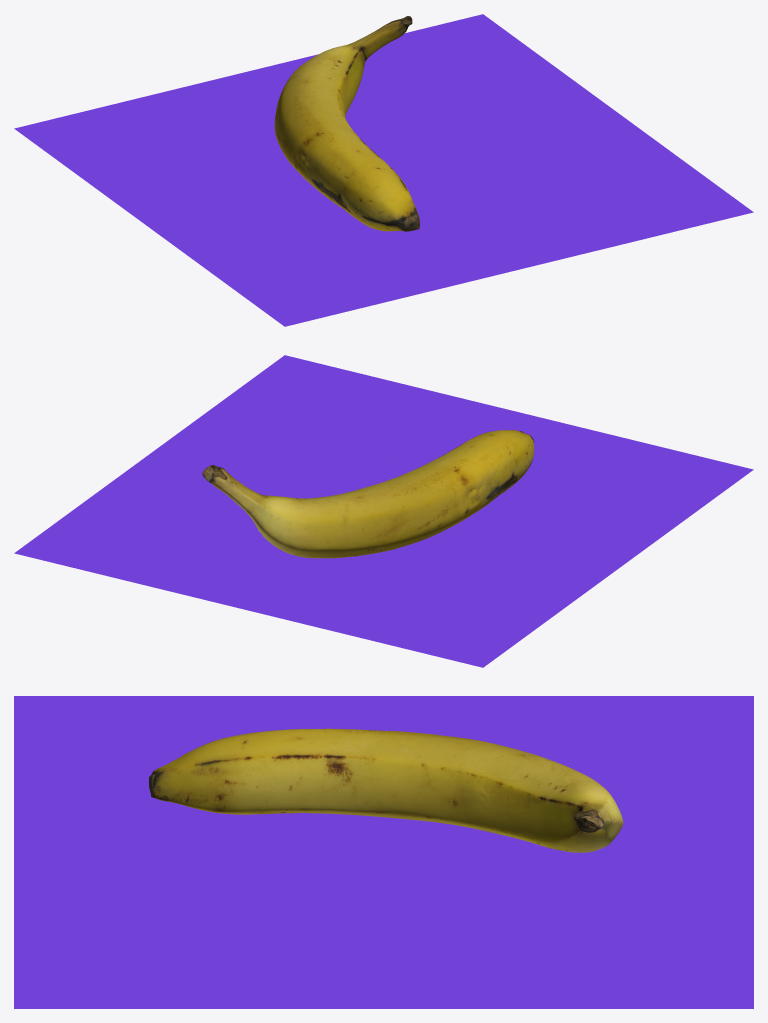
Rendered from banana.gltf.
3 renders of one model, top to bottom at view 1: azimuth 30°, elevation 25°; view 2: azimuth 150°, elevation 25°; view 3: azimuth 270°, elevation 25°, orthographic. The views are drawn at different scales.
Parts seen in each view (by area): view 1: banana_shadow_catcher, banana; view 2: banana_shadow_catcher, banana; view 3: banana_shadow_catcher, banana.
Part boxes in pixels (x1,y1,x2,y2): banana_shadow_catcher: (14,14,753,326); banana: (274,16,420,231); banana_shadow_catcher: (14,355,753,667); banana: (202,430,534,558); banana_shadow_catcher: (14,696,753,1008); banana: (149,728,623,852).
Size of the model in its own units: 15000 by 2305 by 15000.
Materials: 2 (1 with a texture image).
